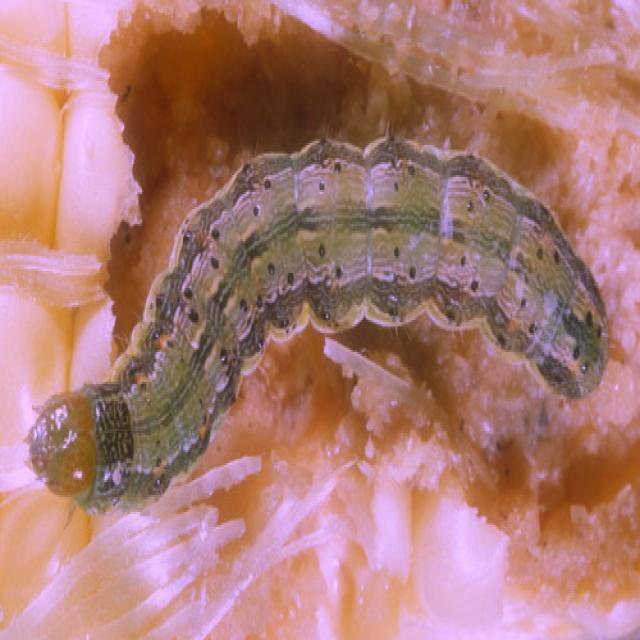Corn-earworm: (27, 132, 615, 514)
